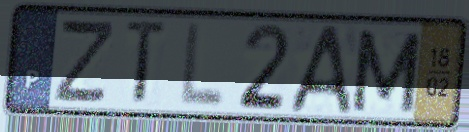2: (238, 21, 293, 115)
A: (286, 22, 355, 116)
L: (175, 19, 229, 112)
M: (348, 26, 424, 115)
T: (123, 17, 171, 110)
Z: (49, 18, 119, 106)
